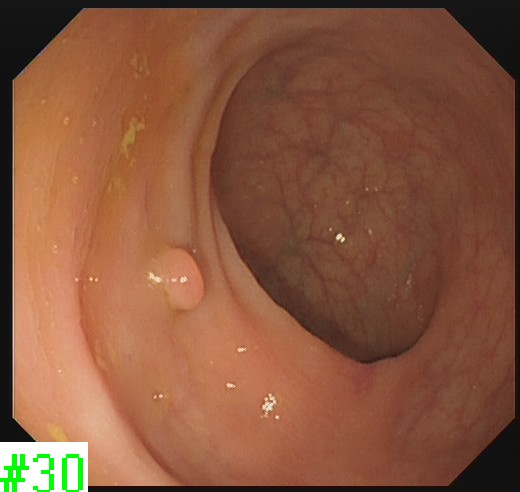others: (154, 243, 206, 313)
